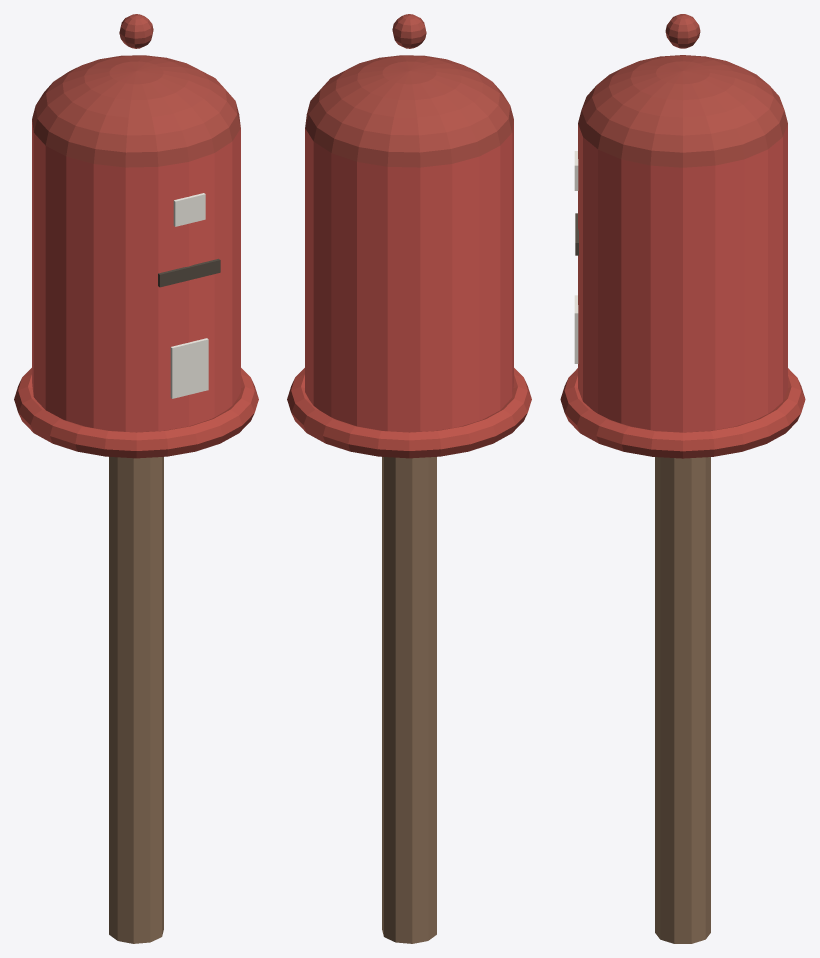
The model's file is mailbox.glb.
3 views of the same model, side by side, from view 1: azimuth 30°, elevation 25°; view 2: azimuth 150°, elevation 25°; view 3: azimuth 270°, elevation 25° (orthographic).
Parts seen in each view (by area): view 1: mailbox; view 2: mailbox; view 3: mailbox.
Boxes of the visible parts, box(x1,y1,x2,y2) form: mailbox: box(14, 14, 258, 943); mailbox: box(287, 14, 531, 943); mailbox: box(560, 14, 805, 943).
Size of the model in its own units: 0.35 by 1.44 by 0.35.
